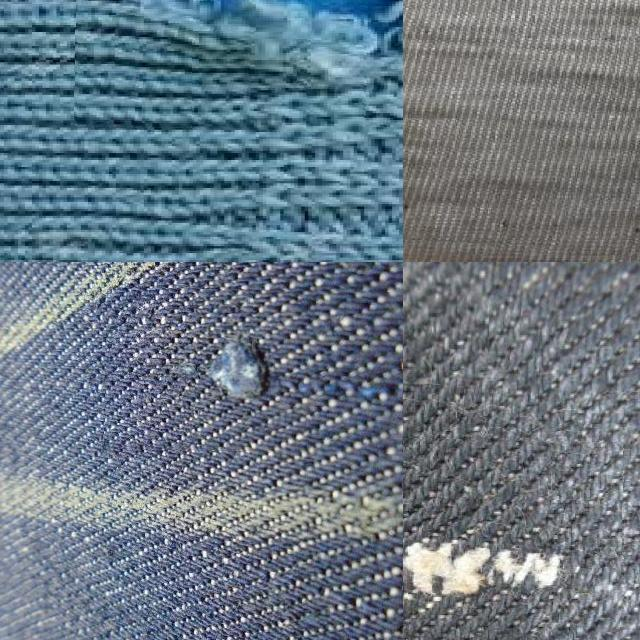Thread_other: (104, 288, 403, 454), (403, 437, 622, 640)
seam: (75, 0, 403, 130)
